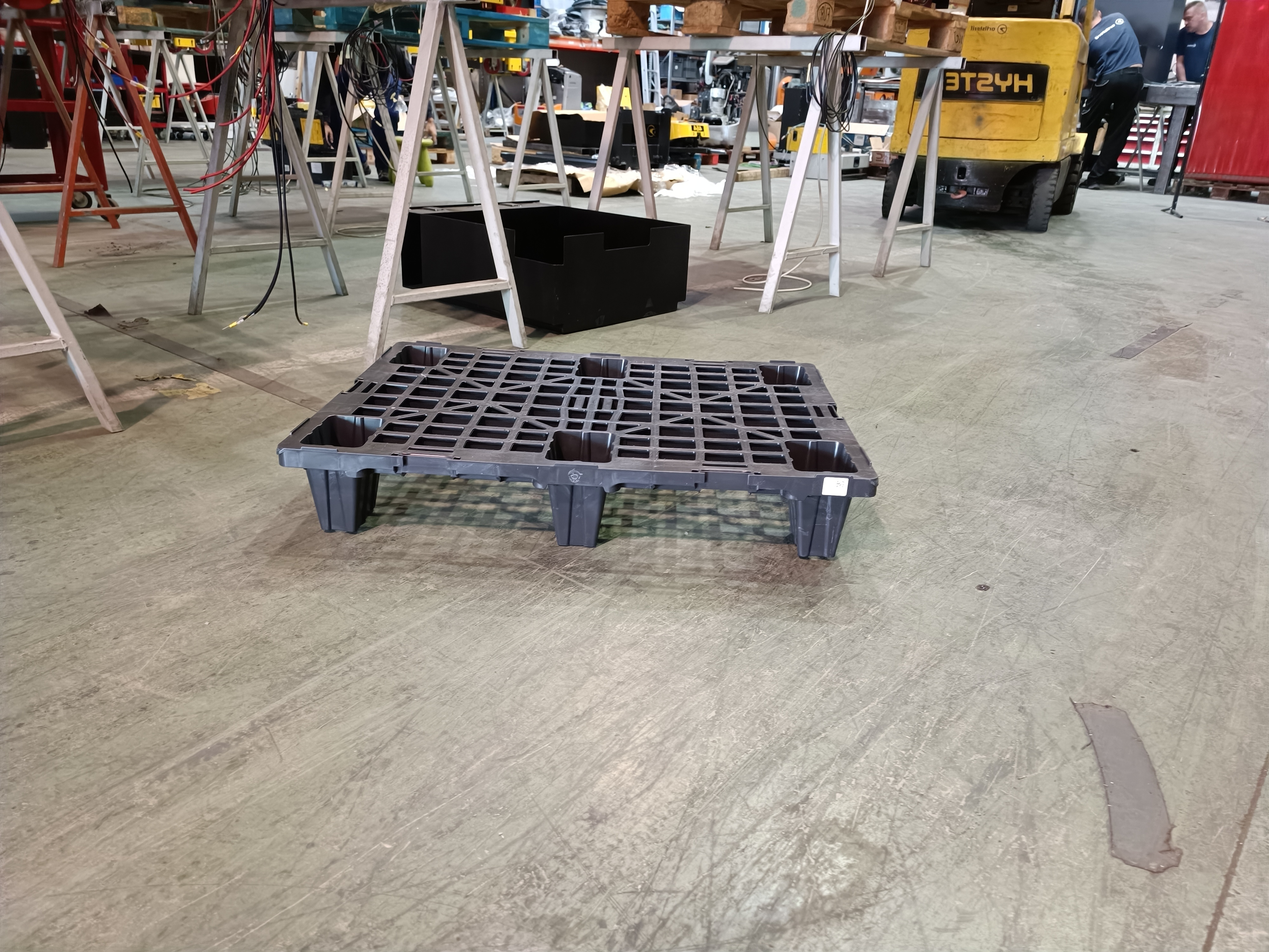block: (778, 489, 853, 567), (305, 463, 381, 538), (552, 481, 607, 553)
front: (278, 449, 878, 579)
hole pallet: (593, 489, 793, 561), (364, 478, 558, 548)
